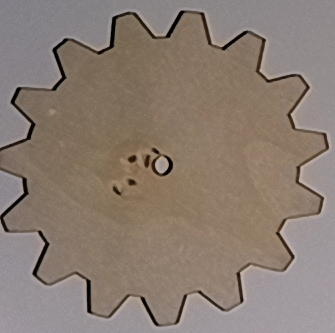Points: (111, 185, 122, 197), (143, 153, 151, 169), (126, 177, 138, 187), (126, 154, 138, 164), (151, 146, 161, 155)
